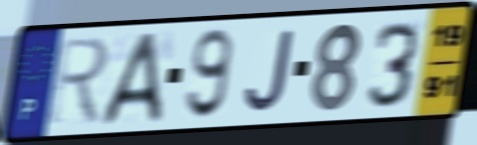3: (366, 18, 423, 110)
8: (308, 20, 364, 114)
9: (184, 26, 237, 123)
A: (98, 29, 165, 129)
J: (242, 26, 298, 115)
R: (45, 34, 112, 127)
